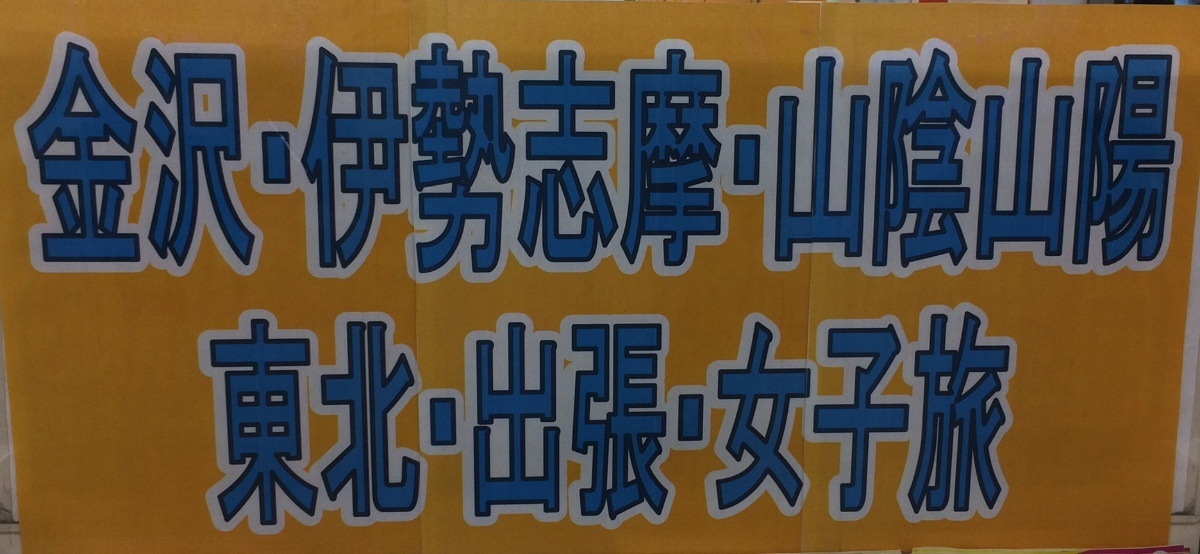text: (33, 37, 48, 274), (49, 37, 64, 274), (65, 37, 80, 274), (81, 37, 96, 274), (97, 37, 112, 274), (113, 37, 128, 274), (129, 37, 144, 274), (145, 37, 160, 274), (161, 37, 176, 274), (177, 37, 192, 274), (193, 37, 208, 274), (209, 37, 224, 274), (225, 37, 240, 274), (241, 37, 256, 274), (257, 37, 272, 274), (273, 37, 288, 274), (289, 37, 304, 274), (305, 37, 320, 274), (321, 37, 336, 274), (337, 37, 352, 274), (353, 37, 368, 274), (369, 37, 384, 274), (385, 37, 400, 274), (401, 37, 416, 274), (417, 37, 432, 274), (433, 37, 448, 274), (449, 37, 464, 274), (465, 37, 480, 274), (481, 37, 496, 274), (497, 37, 512, 274), (513, 37, 528, 274), (529, 37, 544, 274), (545, 37, 560, 274), (561, 37, 576, 274), (577, 37, 592, 274), (593, 37, 608, 274), (609, 37, 624, 274), (625, 37, 640, 274), (641, 37, 656, 274), (657, 37, 672, 274), (673, 37, 688, 274), (689, 37, 704, 274), (705, 37, 720, 274), (721, 37, 736, 274), (737, 37, 752, 274), (753, 37, 768, 274), (769, 37, 784, 274), (785, 37, 800, 274), (801, 37, 816, 274), (817, 37, 832, 274), (833, 37, 848, 274), (849, 37, 864, 274), (865, 37, 880, 274), (881, 37, 896, 274), (897, 37, 912, 274), (913, 37, 928, 274), (929, 37, 944, 274), (945, 37, 960, 274), (961, 37, 976, 274), (977, 37, 992, 274), (993, 37, 1008, 274), (1009, 37, 1024, 274), (1025, 37, 1040, 274), (1041, 37, 1056, 274), (1057, 37, 1072, 274), (1073, 37, 1088, 274), (1089, 37, 1104, 274), (1105, 37, 1120, 274), (1121, 37, 1136, 274), (1137, 37, 1152, 274), (1153, 37, 1168, 274), (209, 311, 224, 528), (225, 311, 240, 528), (241, 311, 256, 528), (257, 311, 272, 528), (273, 311, 288, 528), (289, 311, 304, 528), (305, 311, 320, 528), (321, 311, 336, 528), (337, 311, 352, 528), (353, 311, 368, 528), (369, 311, 384, 528), (385, 311, 400, 528), (401, 311, 416, 528), (417, 311, 432, 528), (433, 311, 448, 528), (449, 311, 464, 528), (465, 311, 480, 528), (481, 311, 496, 528), (497, 311, 512, 528), (513, 311, 528, 528), (529, 311, 544, 528), (545, 311, 560, 528), (561, 311, 576, 528), (577, 311, 592, 528), (593, 311, 608, 528), (609, 311, 624, 528), (625, 311, 640, 528), (641, 311, 656, 528), (657, 311, 672, 528), (673, 311, 688, 528), (689, 311, 704, 528), (705, 311, 720, 528), (721, 311, 736, 528), (737, 311, 752, 528), (753, 311, 768, 528), (769, 311, 784, 528), (785, 311, 800, 528), (801, 311, 816, 528), (817, 311, 832, 528), (833, 311, 848, 528), (849, 311, 864, 528), (865, 311, 880, 528), (881, 311, 896, 528), (897, 311, 912, 528), (913, 311, 928, 528), (929, 311, 944, 528), (945, 311, 960, 528), (961, 311, 976, 528), (977, 311, 992, 528), (993, 311, 1008, 528), (1169, 37, 1182, 274), (1009, 311, 1022, 528), (28, 37, 32, 274)
